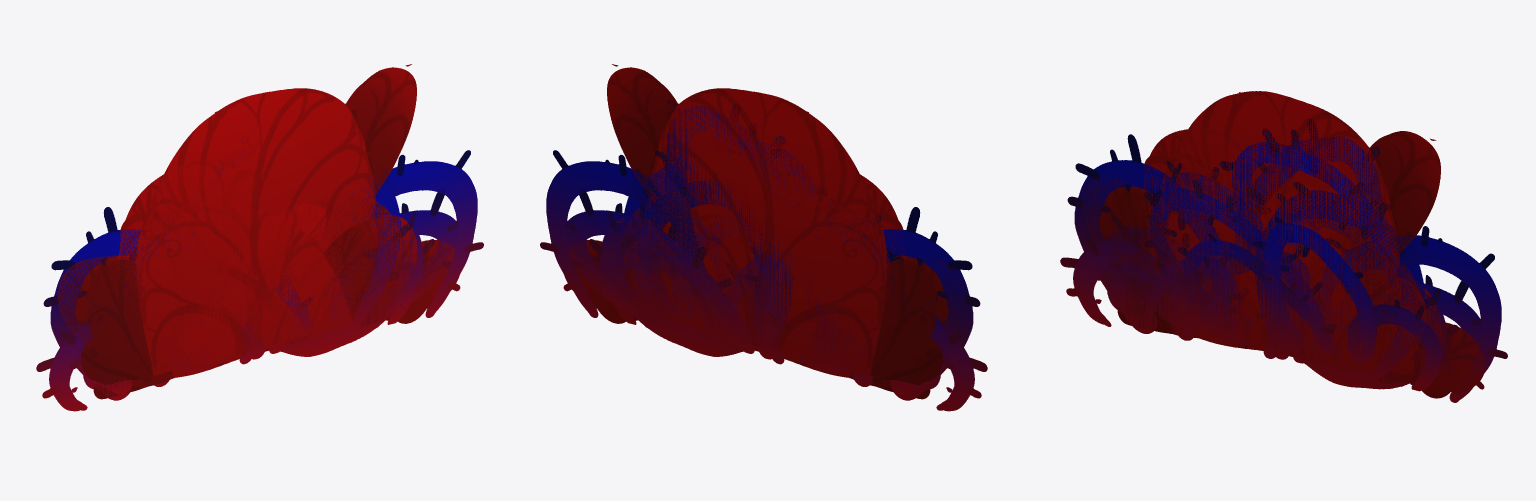
File: BushesAndBrambles_01.fbx
3 renders of one model, left to right at view 1: azimuth 30°, elevation 25°; view 2: azimuth 150°, elevation 25°; view 3: azimuth 330°, elevation 25°, orthographic.
Parts seen in each view (by area): view 1: Bush_01, Bush_04, Bramble_01, Bush_02, Bush_03, Bramble_02, Bramble_03, Bush_05, Bramble_04; view 2: Bush_01, Bramble_01, Bramble_03, Bramble_02, Bush_02, Bush_04, Bramble_04; view 3: Bush_01, Bramble_01, Bush_02, Bramble_02, Bramble_04, Bramble_03, Bush_04, Bush_03, Bush_05.
Part boxes in pixels (x1,y1,x2,y2): Bush_01: (81,67,416,384); Bush_04: (111,200,417,387); Bramble_01: (36,137,483,411); Bush_02: (57,159,460,399); Bush_03: (174,190,351,365); Bramble_02: (121,170,411,382); Bramble_03: (67,64,460,394); Bush_05: (232,204,326,347); Bramble_04: (71,235,427,392); Bush_01: (607,67,942,384); Bramble_01: (540,123,987,411); Bramble_03: (563,64,956,394); Bramble_02: (612,152,903,382); Bush_02: (563,160,965,399); Bush_04: (606,200,890,387); Bramble_04: (597,215,952,392); Bush_01: (1105,91,1440,374); Bramble_01: (1060,128,1507,402); Bush_02: (1082,129,1484,398); Bramble_02: (1141,179,1435,377); Bramble_04: (1095,217,1451,391); Bramble_03: (1091,92,1484,378); Bush_04: (1138,168,1441,382); Bush_03: (1208,185,1375,358); Bush_05: (1256,224,1348,340).
Bounding box in the file's own units: 99.03 × 72.08 × 5.44e-06.
1 material, 1 textured.
